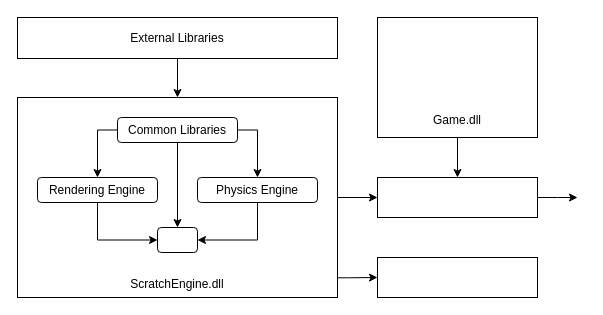
The diagram is 603 pixels wide and 315 high, and some of its shapes have lost their labels. Here are the shapes that lost their labels. From the top down, the centre of each, then its label:
the point at 457,197: GameBuilder.exe
the point at 177,239: Core
the point at 457,277: ScratchEngineEditor.exe
